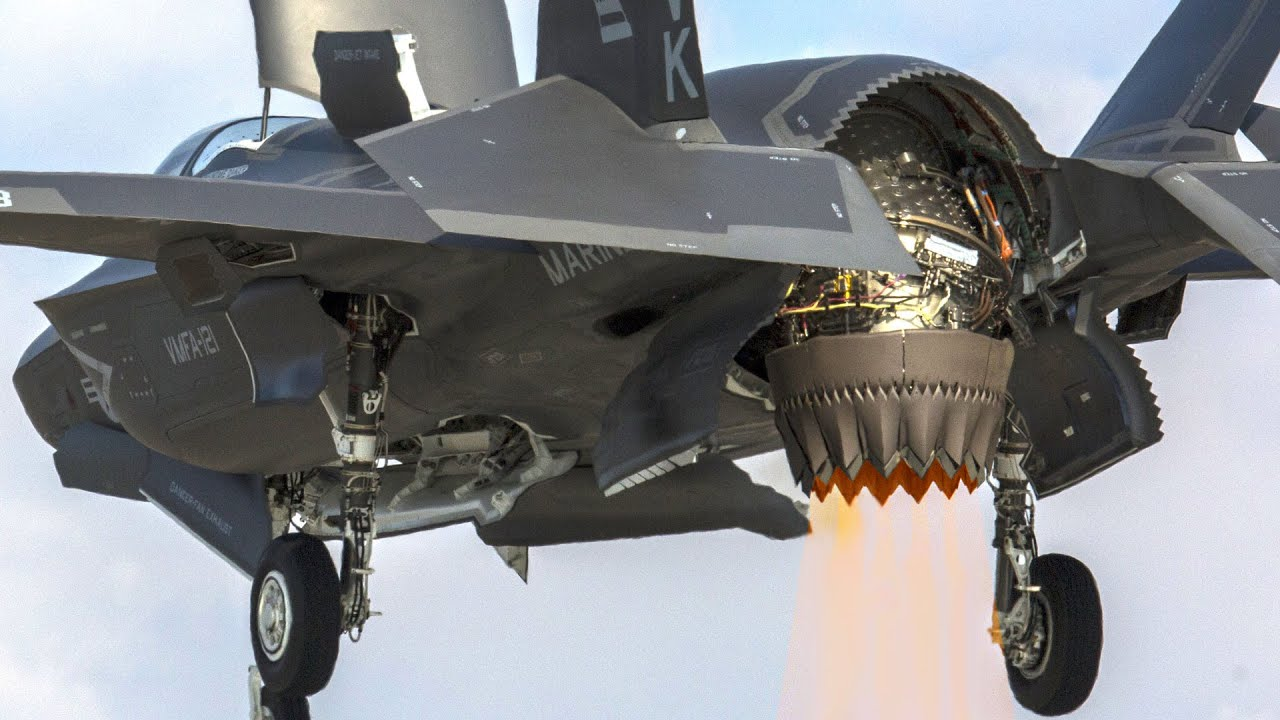F35: (0, 0, 1280, 716)
